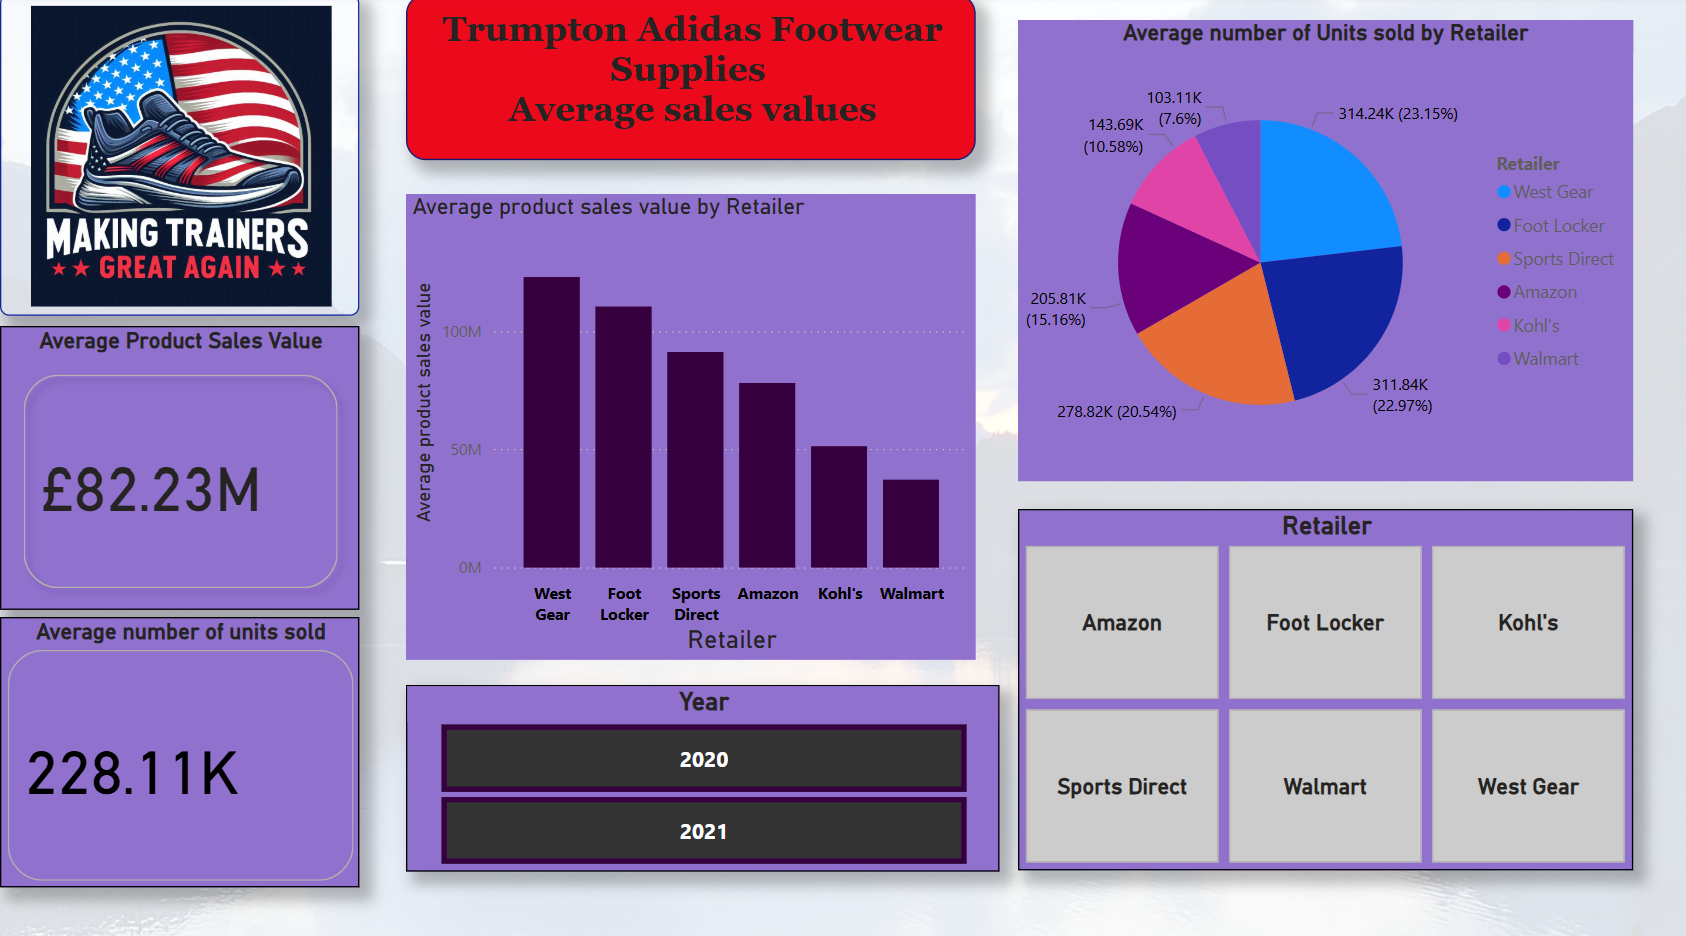

The dashboard page shown, as its layout file describes it:
{"tool":"powerbi","page":{"name":"Average sales","canvas":[1280,720],"ordinal":3},"visuals":[{"type":"image","box":[0,0,272.6,244],"z":0},{"type":"textbox","box":[307.1,0,432.1,126.2],"z":1000},{"type":"advancedSlicerVisual","fields":{"Values":["Data_Sales_Adidas (2).Retailer"]},"box":[771.4,390.5,466.7,273.8],"z":2000},{"type":"slicer","title":"Year","fields":{"Values":["Data_Sales_Adidas (2).Year"]},"box":[307.1,522.6,450,141.7],"z":3000},{"type":"cardVisual","title":"Average Product Sales Value","fields":{"Data":["Avg(Data_Sales_Adidas (2).All products total sales)"]},"box":[0,252.4,272.6,214.3],"z":4000},{"type":"cardVisual","title":"Average number of units sold","fields":{"Data":["Avg(Data_Sales_Adidas (2).Total Units sold)"]},"box":[0,471.4,272.6,204.8],"z":5000},{"type":"clusteredColumnChart","fields":{"Category":["Data_Sales_Adidas (2).Retailer"],"Y":["Avg(Data_Sales_Adidas (2).All products total sales)"]},"box":[307.1,151.2,432.1,352.4],"z":6000},{"type":"pieChart","fields":{"Y":["Avg(Data_Sales_Adidas (2).Total Units sold)"],"Category":["Data_Sales_Adidas (2).Retailer"]},"box":[771.4,19,466.7,348.8],"z":7000}]}

Visuals, with their boxes in screenshot pixels (x1, y1, x2, y2), scaled from the page's 1280x720 canvas onto the 1686x936 screenshot:
image: <bbox>0, 0, 359, 317</bbox>
textbox: <bbox>405, 0, 974, 164</bbox>
advancedSlicerVisual - Data_Sales_Adidas (2).Retailer: <bbox>1016, 508, 1631, 864</bbox>
"Year" slicer: <bbox>405, 679, 997, 864</bbox>
"Average Product Sales Value" cardVisual: <bbox>0, 328, 359, 607</bbox>
"Average number of units sold" cardVisual: <bbox>0, 613, 359, 879</bbox>
clusteredColumnChart - Data_Sales_Adidas (2).Retailer x Avg(Data_Sales_Adidas (2).All products total sales): <bbox>405, 197, 974, 655</bbox>
pieChart - Avg(Data_Sales_Adidas (2).Total Units sold) x Data_Sales_Adidas (2).Retailer: <bbox>1016, 25, 1631, 478</bbox>
